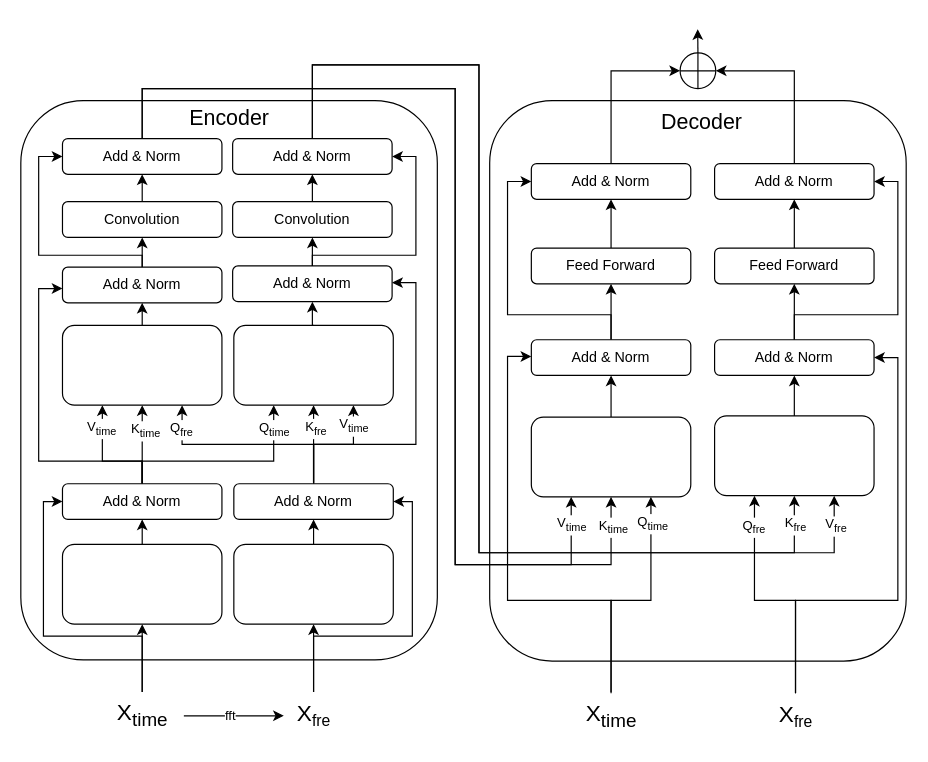
This 928x762 diagram has some shape labels left out. Here are the shapes that lost their labels. From the top down, the centre of each, then its label:
point 141,364: Cross Multi-Head Attention
point 313,364: frequency-enhance Cross Multi-Head Attention
point 610,456: time-target Multi-Head Attention
point 793,455: frequency-target Multi-Head Attention
point 141,583: Multi-Head Attention
point 313,583: frequency-enhance Multi-Head Attention
